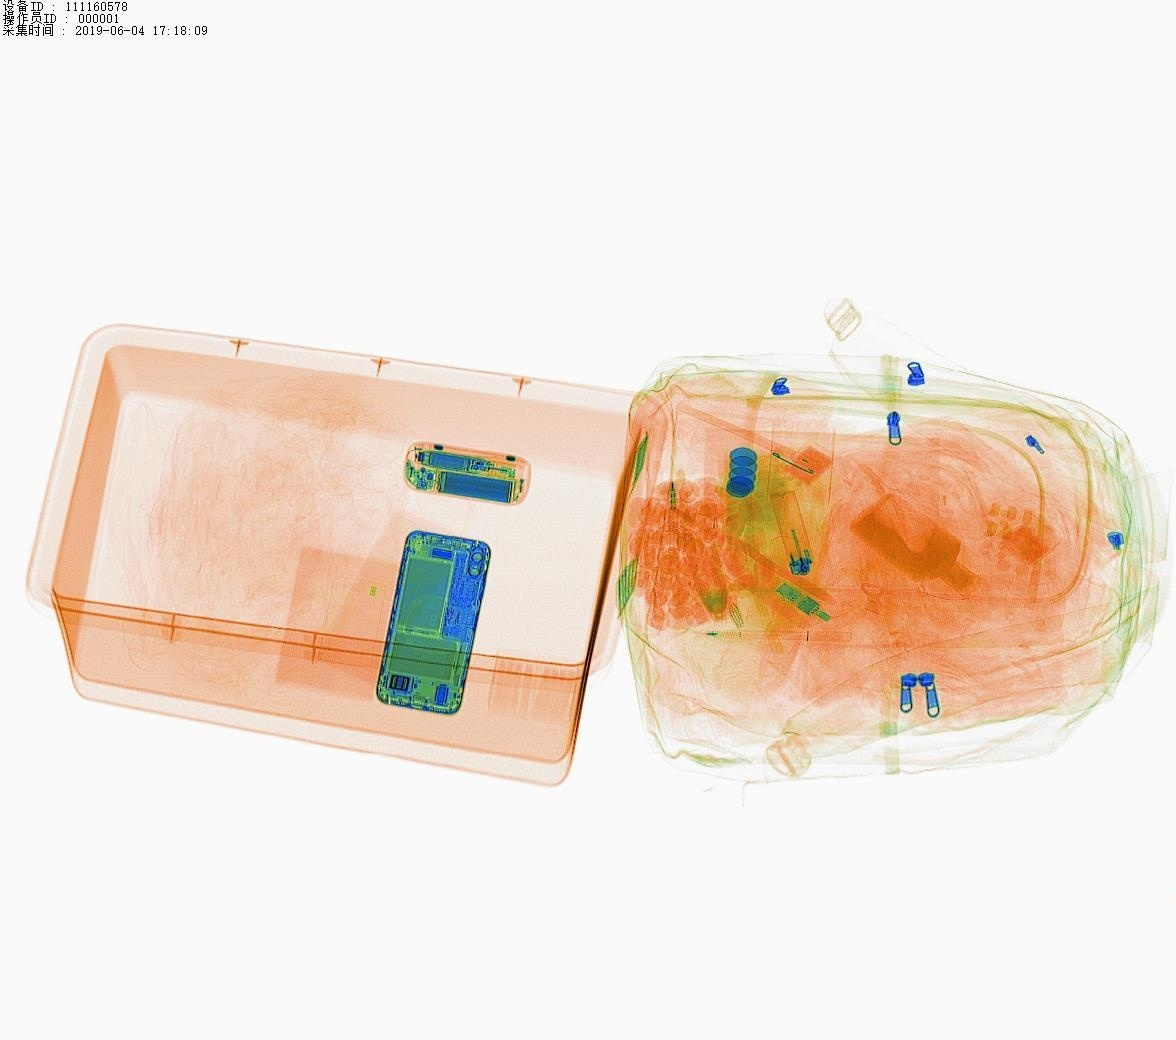NonmetallicFire: (760, 476, 833, 586)
